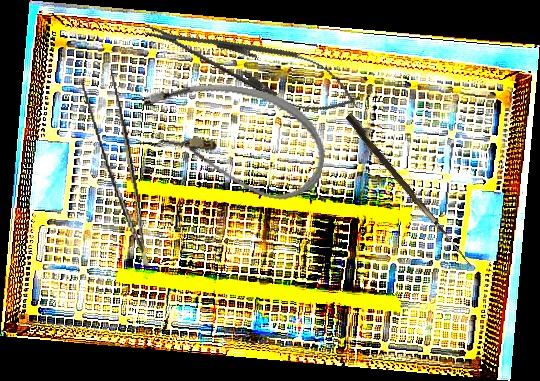Cannula: (130, 69, 335, 207)
Hook Surgical: (342, 112, 480, 269)
Needle Holder: (137, 2, 368, 128)
Tissue Forceps: (79, 65, 150, 272)
